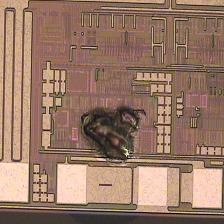BLOCK ETCH: (78, 104, 150, 170)
